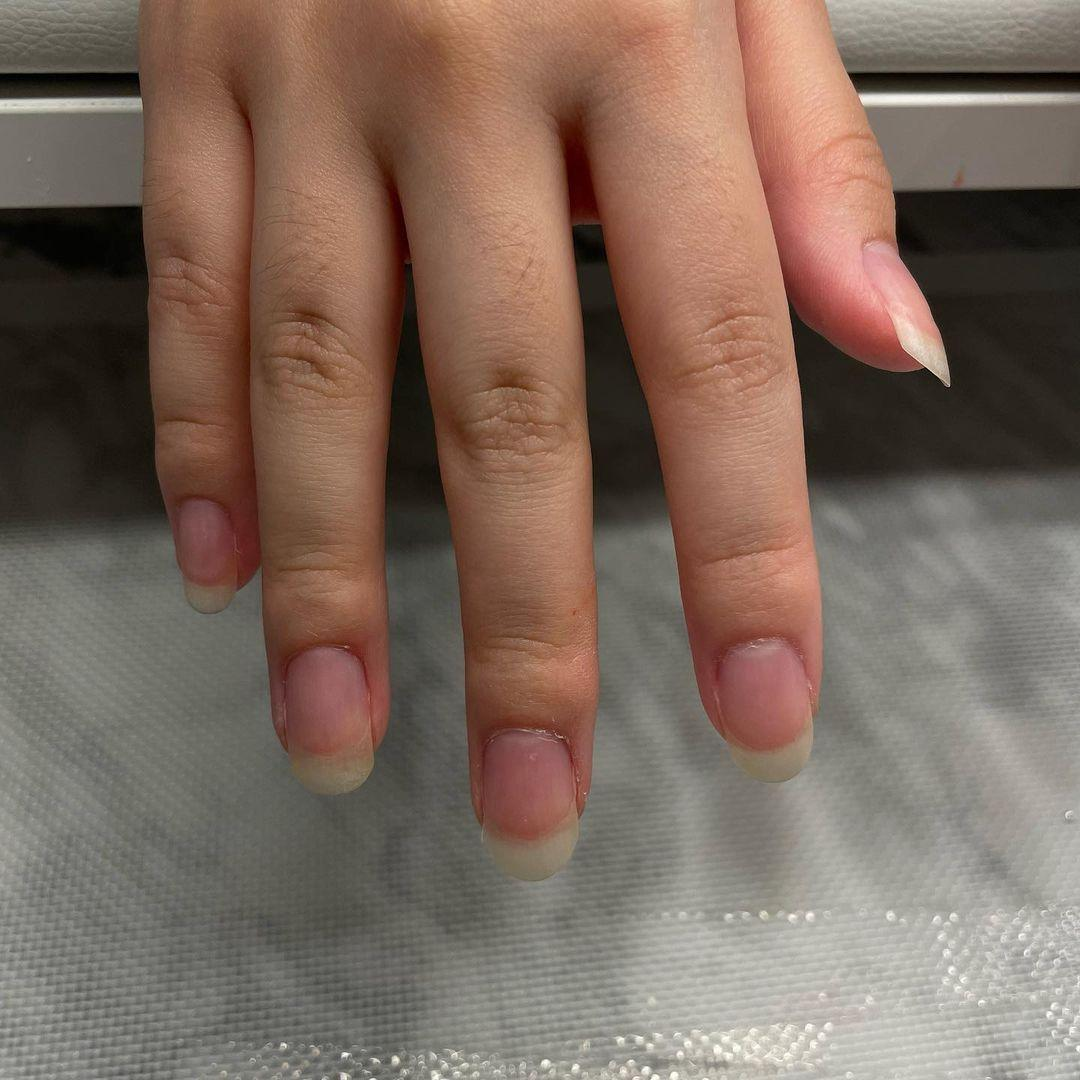nail: (477, 724, 581, 880), (713, 634, 815, 782), (281, 642, 375, 796), (860, 237, 951, 388), (172, 494, 238, 613)
